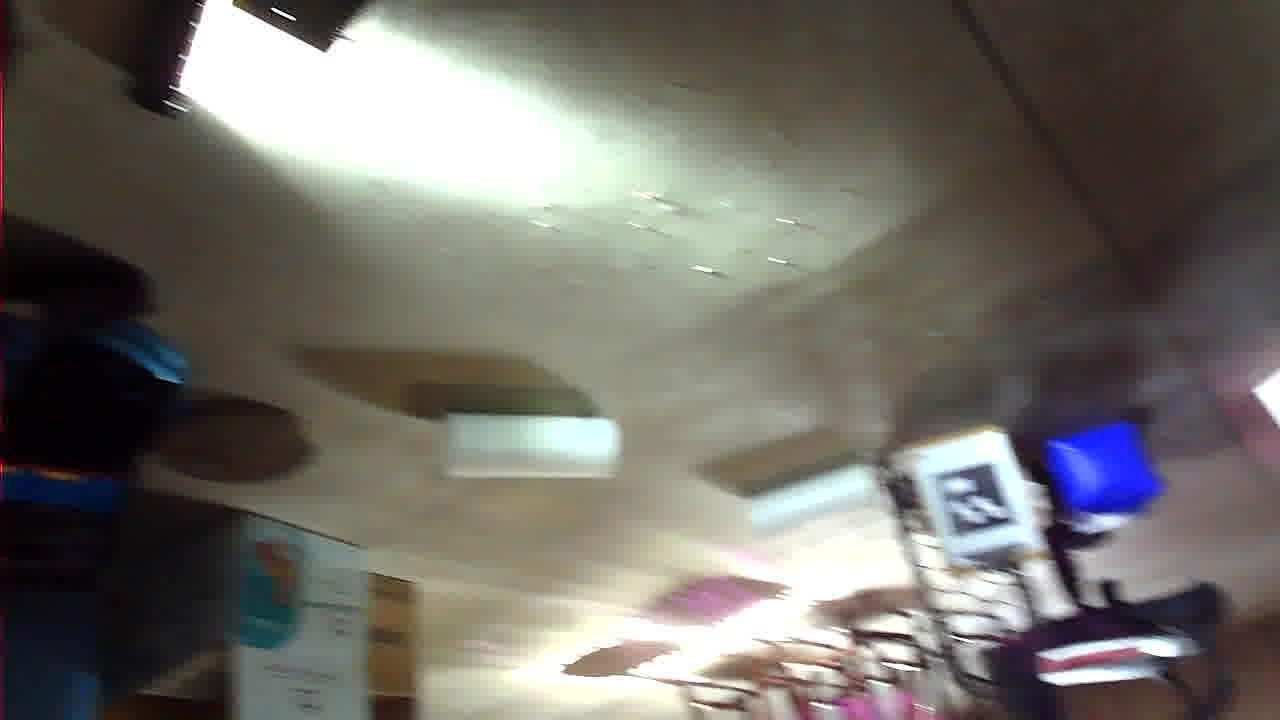coral: (663, 245, 835, 303), (410, 189, 529, 248)
